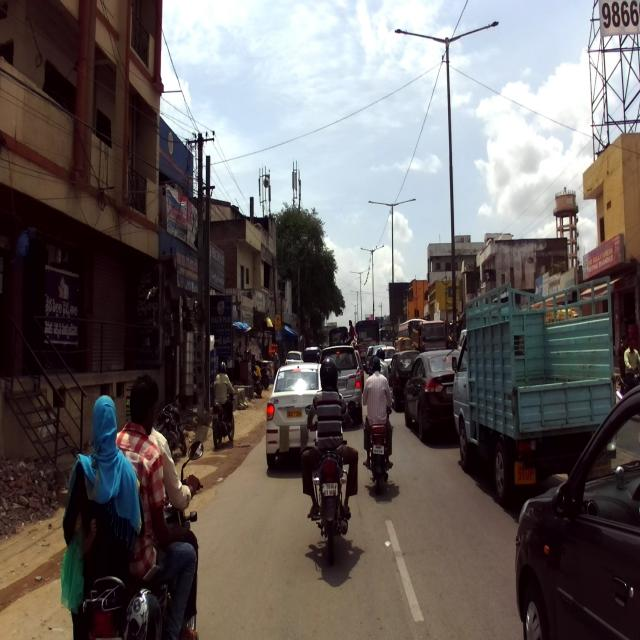Car_Hyundai: (266, 362, 326, 471)
Car_Maruti-Suzuki: (513, 387, 639, 639), (402, 346, 460, 441)
motorcycle_Hero: (81, 440, 206, 639), (303, 398, 356, 564)
motorcycle_TVS: (363, 390, 393, 495)
motorcycle_bajaj: (158, 389, 188, 458), (210, 389, 237, 447)
truck: (452, 263, 621, 506)
